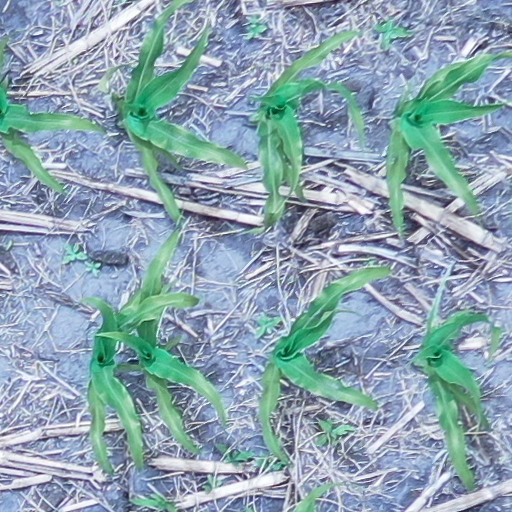planta: (110, 1, 247, 223), (94, 227, 226, 452), (257, 265, 392, 471), (252, 27, 366, 228), (85, 292, 200, 473), (411, 300, 501, 490)
